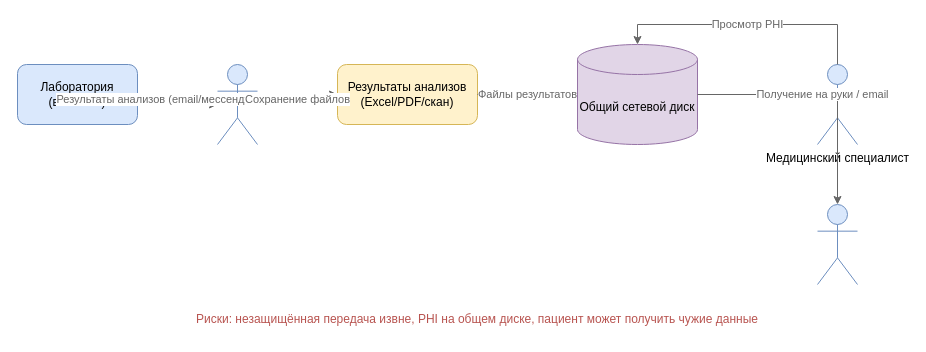
Some shapes in this 926 by 352 pixel diagram are drawn without their labels. Here are the shapes that lost their labels. From the top down, the centre of each, then its label:
At point 237,104: "Ресепшен".
At point 837,244: "Пациент".
